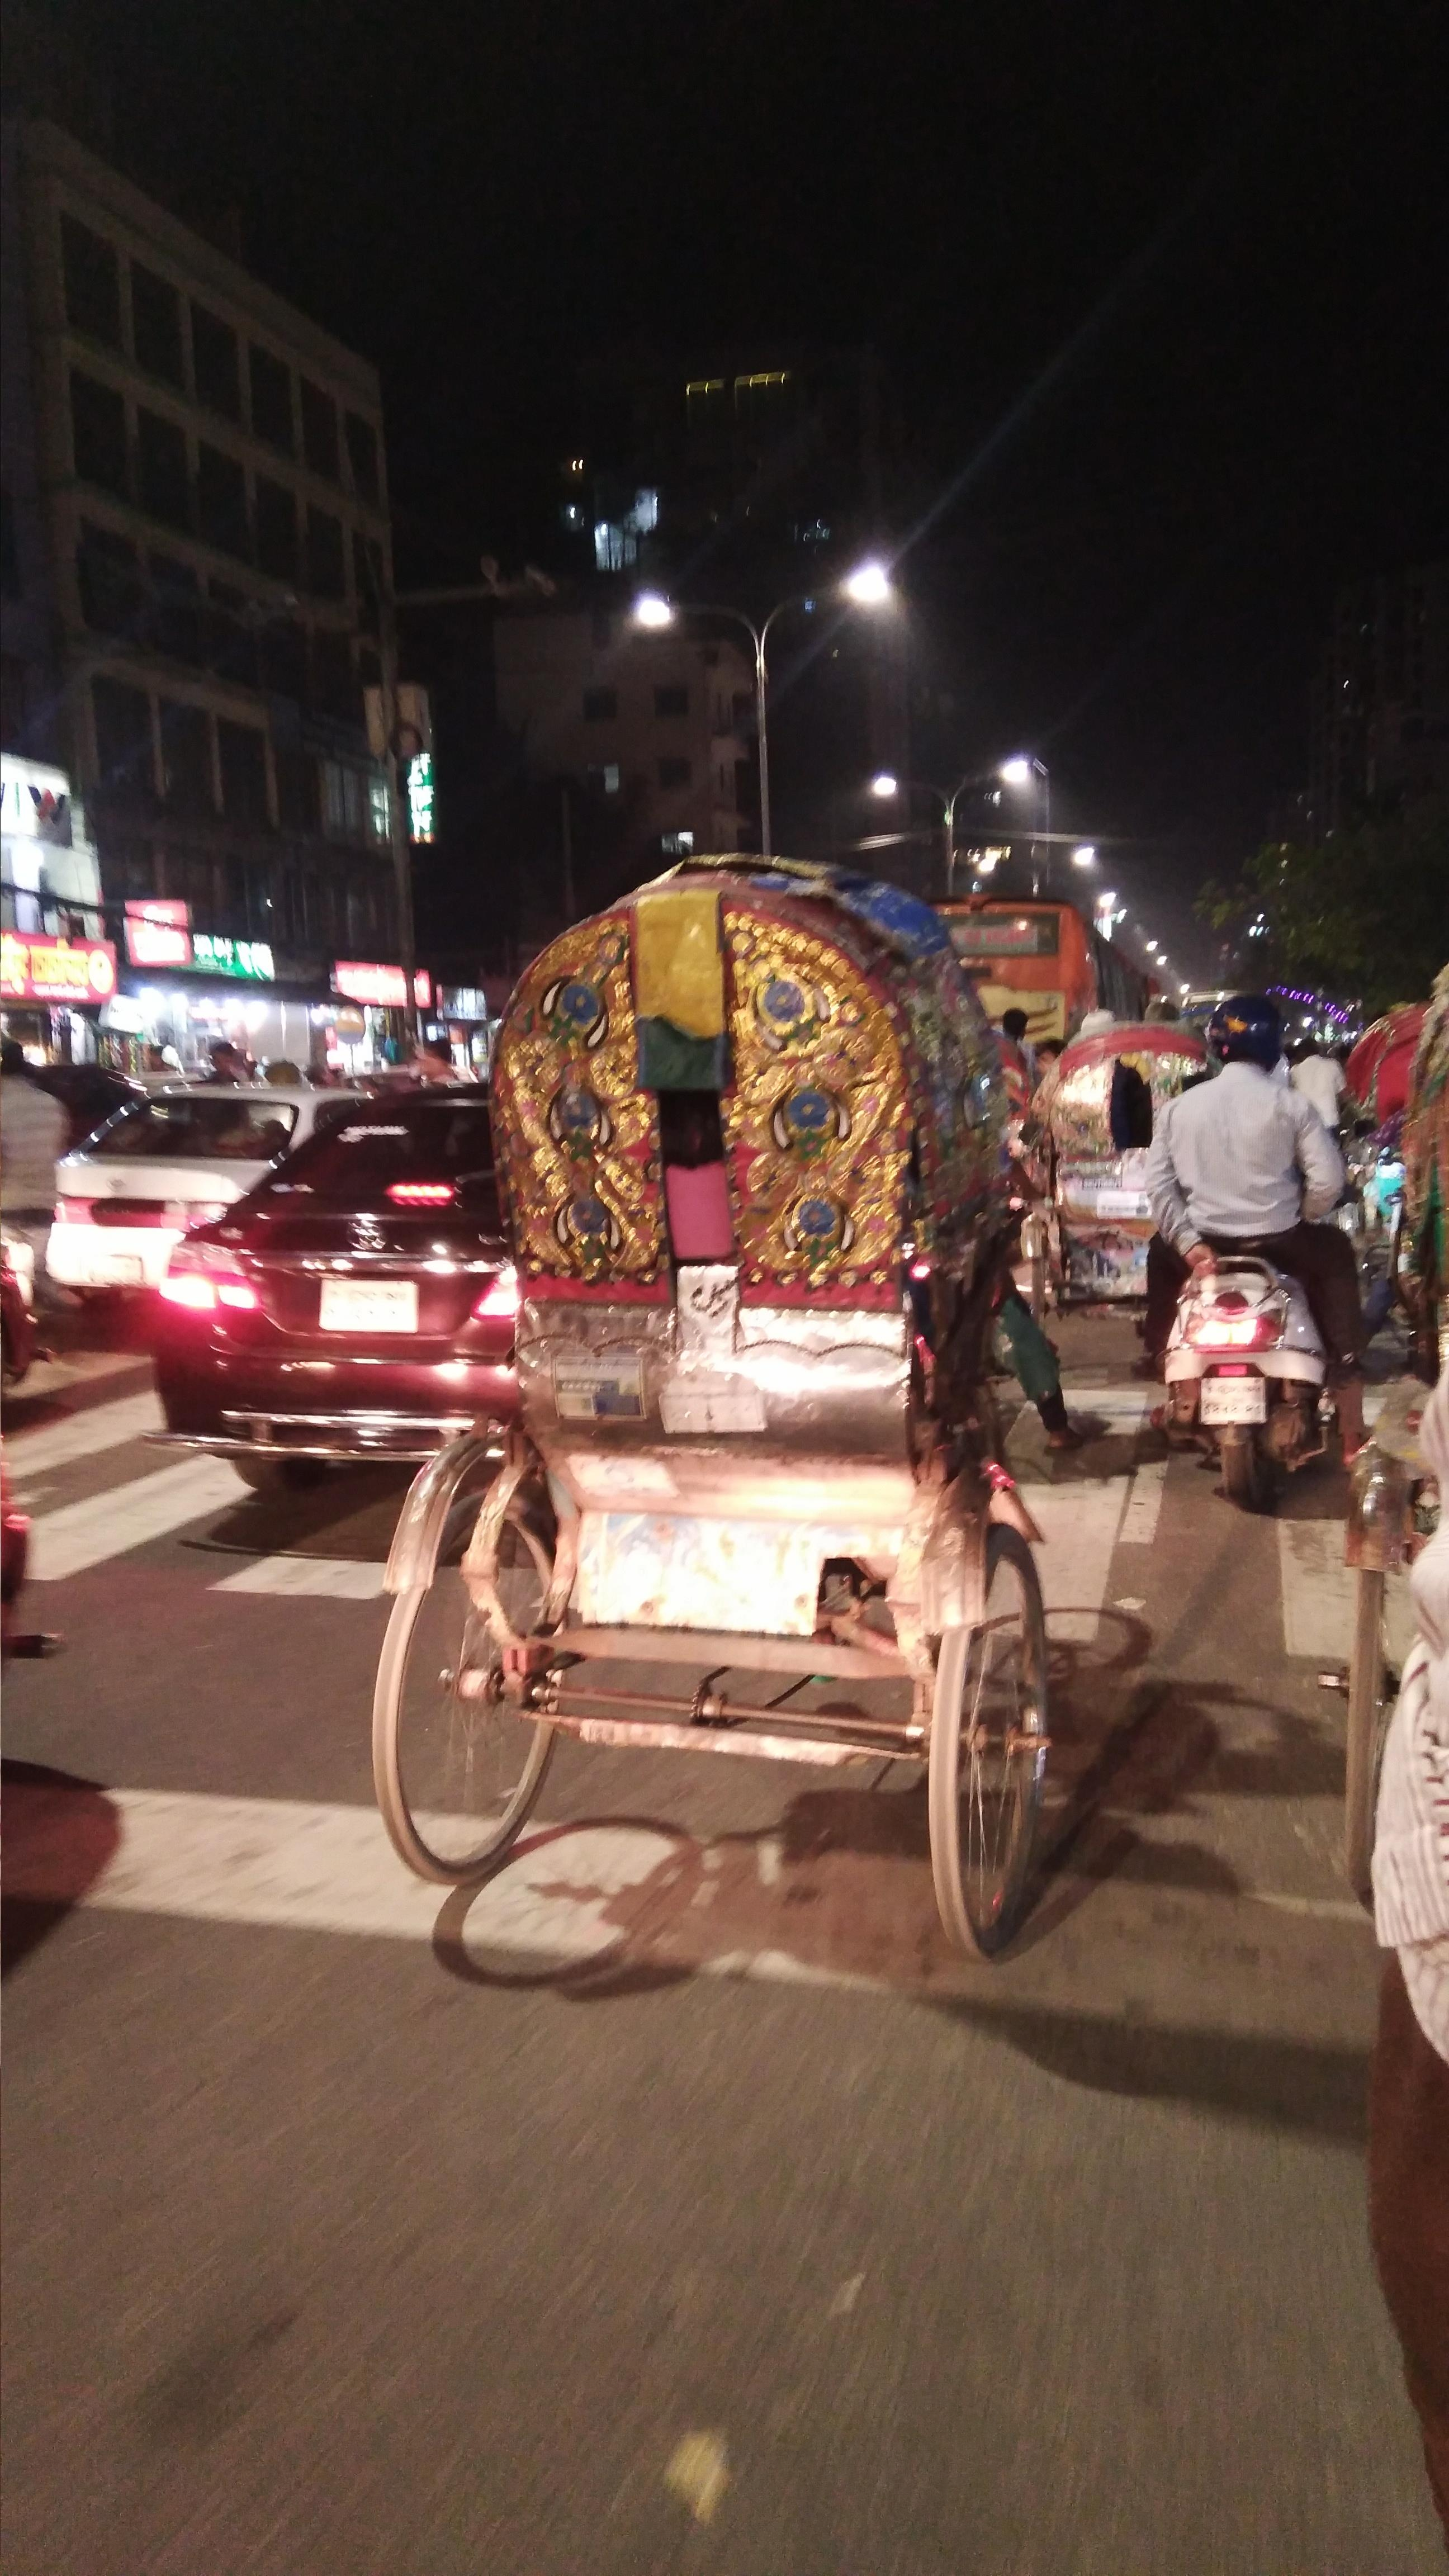Rickshaw: (359, 819, 1090, 1948), (1044, 991, 1238, 1345), (1323, 959, 1424, 1332)
